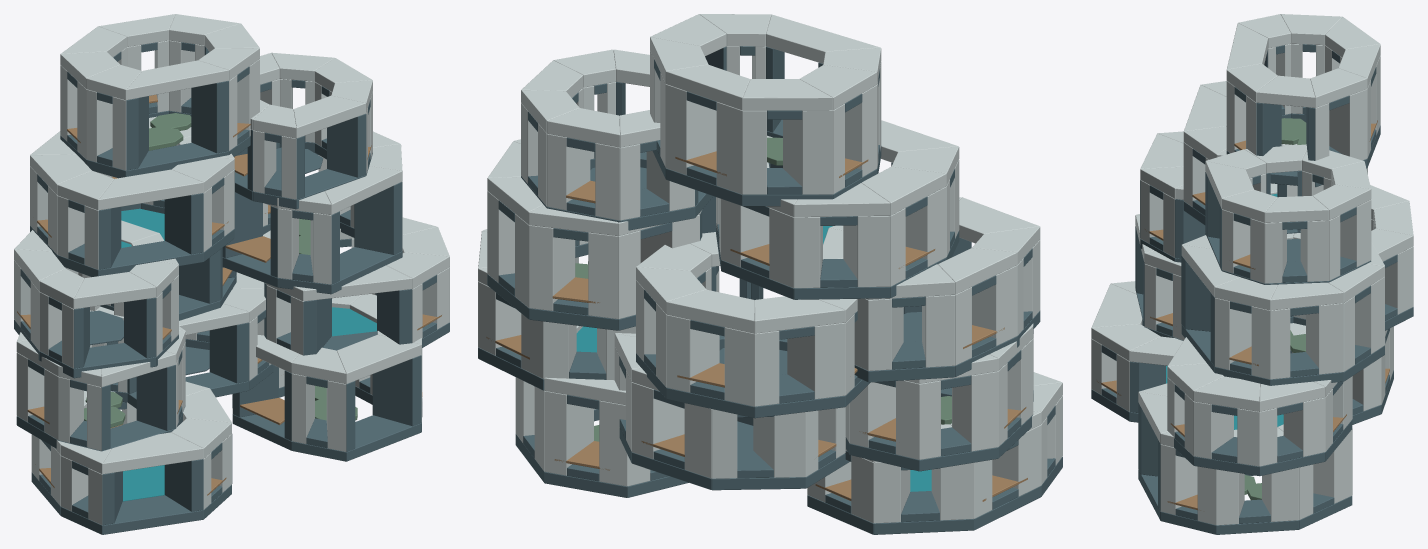
3 views of the same model, side by side, from view 1: azimuth 30°, elevation 25°; view 2: azimuth 150°, elevation 25°; view 3: azimuth 270°, elevation 25° (orthographic). The views are drawn at different scales.
Parts seen in each view (by area): view 1: A08_HIGH_GARDEN__opening_east_jamb_0, A02_SEED_ROOT__opening_east_jamb_0, A09_SKY_TIDE__upper_inhabited_ground_00, A01_TIDE_ROOT__upper_inhabited_ground_00, A11_ZENITH__opening_east_jamb_0, A11_ZENITH__upper_inhabited_ground_00, A02_SEED_ROOT__upper_inhabited_ground_00, A01_TIDE_ROOT__thick_city_ground_00, A04_WEST_SKY__opening_east_jamb_0, A03_MEMORY_DEPTH__opening_east_jamb_0, A10_EAST_CROWN__opening_east_jamb_0, A09_SKY_TIDE__opening_east_jamb_0 (+117 smaller); view 2: A11_ZENITH__deep_civic_buttress_5, A06_INNER_CONFLUENCE__deep_civic_buttress_5, A11_ZENITH__deep_living_buttress_4, A08_HIGH_GARDEN__deep_living_buttress_4, A02_SEED_ROOT__deep_living_buttress_4, A04_WEST_SKY__deep_civic_buttress_5, A09_SKY_TIDE__deep_civic_buttress_5, A03_MEMORY_DEPTH__deep_civic_buttress_5, A06_INNER_CONFLUENCE__deep_living_buttress_4, A03_MEMORY_DEPTH__deep_living_buttress_4, A06_INNER_CONFLUENCE__upper_inhabited_ground_04, A11_ZENITH__upper_inhabited_ground_00 (+109 smaller); view 3: A08_HIGH_GARDEN__deep_civic_buttress_2, A11_ZENITH__deep_civic_buttress_3, A08_HIGH_GARDEN__deep_living_buttress_1, A02_SEED_ROOT__deep_living_buttress_1, A05_EAST_TIDE__deep_civic_buttress_3, A02_SEED_ROOT__deep_civic_buttress_3, A08_HIGH_GARDEN__deep_civic_buttress_3, A05_EAST_TIDE__deep_living_buttress_2, A02_SEED_ROOT__deep_civic_buttress_2, A05_EAST_TIDE__upper_inhabited_ground_02, A08_HIGH_GARDEN__opening_west_jamb_0, A08_HIGH_GARDEN__upper_inhabited_ground_02 (+91 smaller).
Boxes of the visible parts, x1=… form: A08_HIGH_GARDEN__opening_east_jamb_0: x1=354, y1=182, x2=402, y2=254; A02_SEED_ROOT__opening_east_jamb_0: x1=372, y1=355, x2=421, y2=426; A09_SKY_TIDE__upper_inhabited_ground_00: x1=98, y1=169, x2=203, y2=210; A01_TIDE_ROOT__upper_inhabited_ground_00: x1=102, y1=432, x2=203, y2=474; A11_ZENITH__opening_east_jamb_0: x1=191, y1=81, x2=228, y2=153; A11_ZENITH__upper_inhabited_ground_00: x1=126, y1=60, x2=228, y2=100; A02_SEED_ROOT__upper_inhabited_ground_00: x1=337, y1=334, x2=421, y2=383; A01_TIDE_ROOT__thick_city_ground_00: x1=102, y1=495, x2=203, y2=534; A04_WEST_SKY__opening_east_jamb_0: x1=136, y1=365, x2=175, y2=430; A03_MEMORY_DEPTH__opening_east_jamb_0: x1=209, y1=322, x2=249, y2=383; A10_EAST_CROWN__opening_east_jamb_0: x1=327, y1=114, x2=366, y2=177; A09_SKY_TIDE__opening_east_jamb_0: x1=164, y1=193, x2=203, y2=254; A11_ZENITH__deep_civic_buttress_5: x1=783, y1=110, x2=832, y2=194; A06_INNER_CONFLUENCE__deep_civic_buttress_5: x1=787, y1=323, x2=845, y2=399; A11_ZENITH__deep_living_buttress_4: x1=666, y1=84, x2=716, y2=175; A08_HIGH_GARDEN__deep_living_buttress_4: x1=529, y1=225, x2=575, y2=310; A02_SEED_ROOT__deep_living_buttress_4: x1=544, y1=391, x2=593, y2=475; A04_WEST_SKY__deep_civic_buttress_5: x1=952, y1=371, x2=998, y2=451; A09_SKY_TIDE__deep_civic_buttress_5: x1=843, y1=216, x2=890, y2=287; A03_MEMORY_DEPTH__deep_civic_buttress_5: x1=753, y1=412, x2=805, y2=477; A06_INNER_CONFLUENCE__deep_living_buttress_4: x1=666, y1=315, x2=719, y2=392; A03_MEMORY_DEPTH__deep_living_buttress_4: x1=632, y1=382, x2=684, y2=459; A06_INNER_CONFLUENCE__upper_inhabited_ground_04: x1=666, y1=289, x2=754, y2=333; A11_ZENITH__upper_inhabited_ground_00: x1=766, y1=14, x2=880, y2=63; A08_HIGH_GARDEN__deep_civic_buttress_2: x1=1306, y1=303, x2=1343, y2=374; A11_ZENITH__deep_civic_buttress_3: x1=1329, y1=89, x2=1367, y2=160; A08_HIGH_GARDEN__deep_living_buttress_1: x1=1214, y1=298, x2=1251, y2=369; A02_SEED_ROOT__deep_living_buttress_1: x1=1160, y1=444, x2=1197, y2=514; A05_EAST_TIDE__deep_civic_buttress_3: x1=1283, y1=397, x2=1325, y2=456; A02_SEED_ROOT__deep_civic_buttress_3: x1=1313, y1=429, x2=1352, y2=503; A08_HIGH_GARDEN__deep_civic_buttress_3: x1=1355, y1=276, x2=1384, y2=353; A05_EAST_TIDE__deep_living_buttress_2: x1=1193, y1=401, x2=1233, y2=458; A02_SEED_ROOT__deep_civic_buttress_2: x1=1262, y1=467, x2=1298, y2=521; A05_EAST_TIDE__upper_inhabited_ground_02: x1=1193, y1=376, x2=1259, y2=411; A08_HIGH_GARDEN__opening_west_jamb_0: x1=1181, y1=255, x2=1210, y2=331; A08_HIGH_GARDEN__upper_inhabited_ground_02: x1=1270, y1=282, x2=1343, y2=310.
Size of the model in its own units: 5304 by 4480 by 3498.
